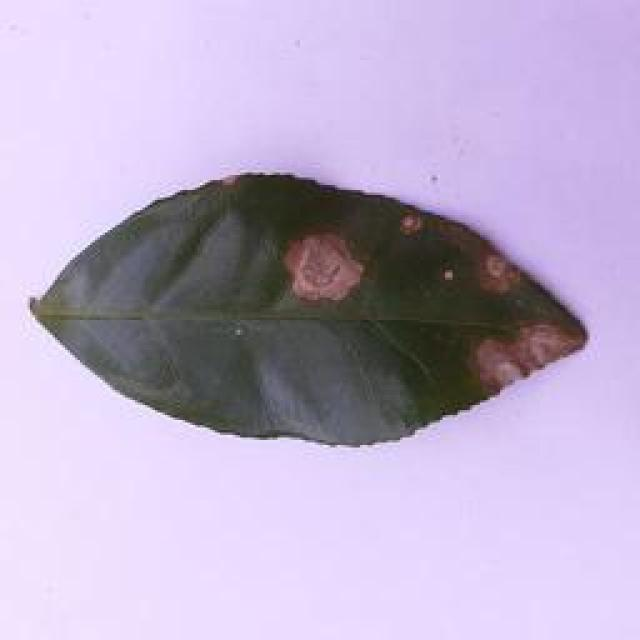Gray Blight: (23, 170, 590, 452)
